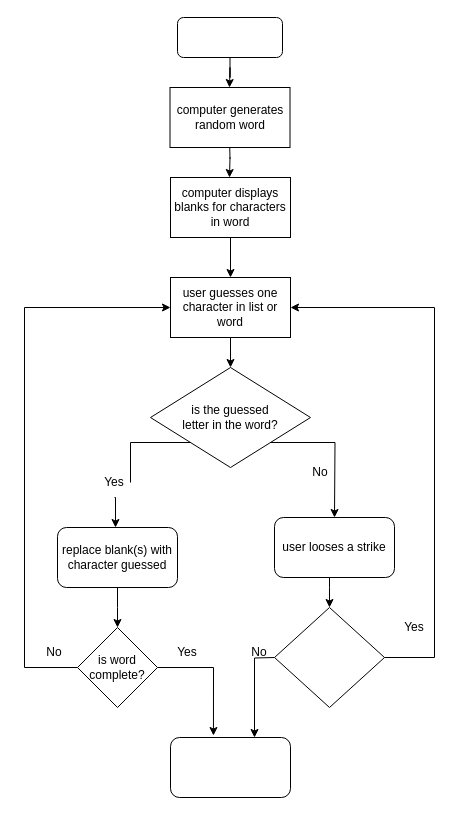
This 462x815 diagram has some shape labels left out. The box of each missing label's shape, as (x1, y1, x2, y2) in pixels:
does user have lives?: (274, 606, 384, 708)
GAME OVER: (170, 736, 290, 798)
START: (176, 16, 282, 58)
